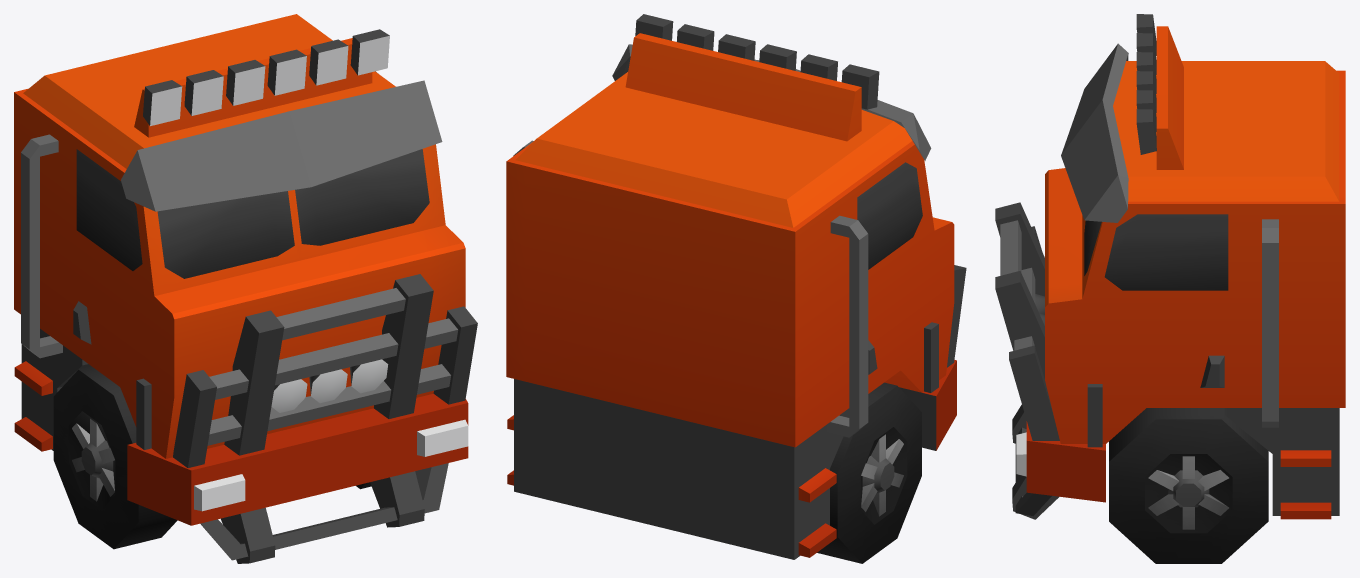
File: head_G_2.fbx
3 renders of one model, left to right at view 1: azimuth 30°, elevation 25°; view 2: azimuth 150°, elevation 25°; view 3: azimuth 270°, elevation 25°, orthographic. The views are drawn at different scales.
Visible parts, largest first — view 1: head_G_2; view 2: head_G_2; view 3: head_G_2.
Part boxes in pixels (x1,y1,x2,y2): head_G_2: [14, 14, 477, 563]; head_G_2: [506, 14, 966, 563]; head_G_2: [995, 14, 1345, 563].
Bounding box in the file's own units: 1385 × 1732 × 1284.
